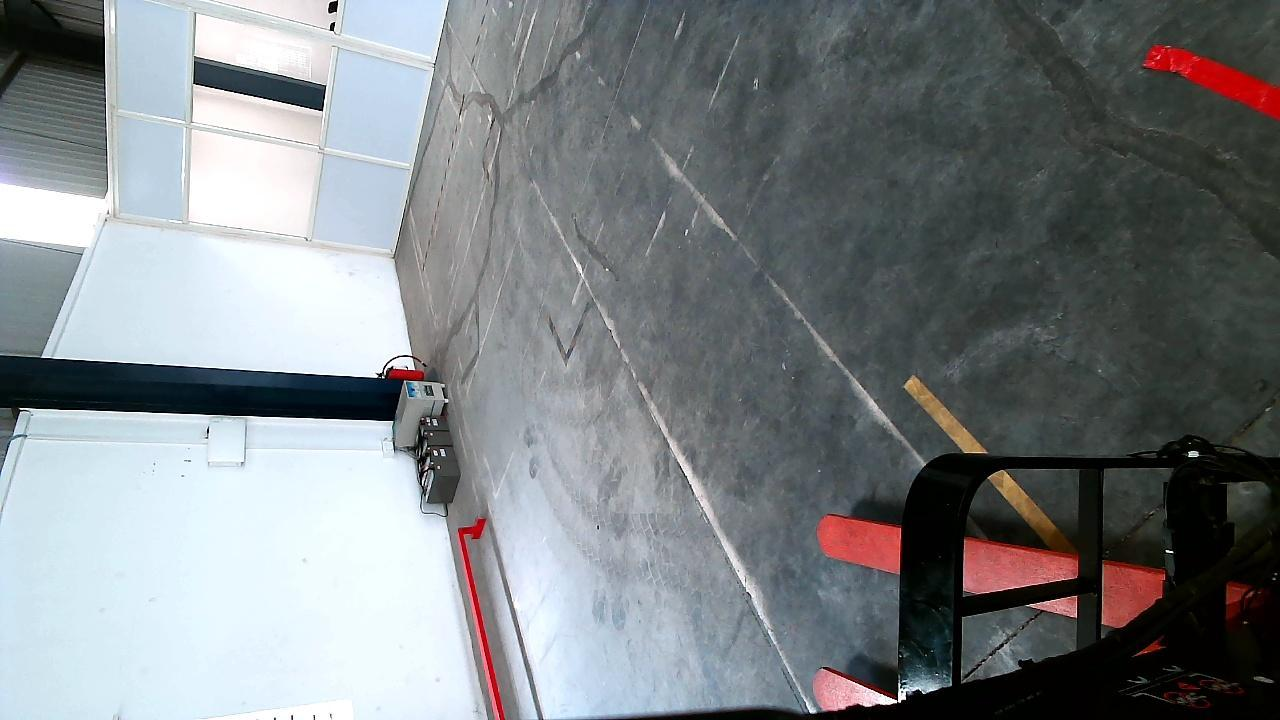yellow_line: (905, 367, 1072, 552)
